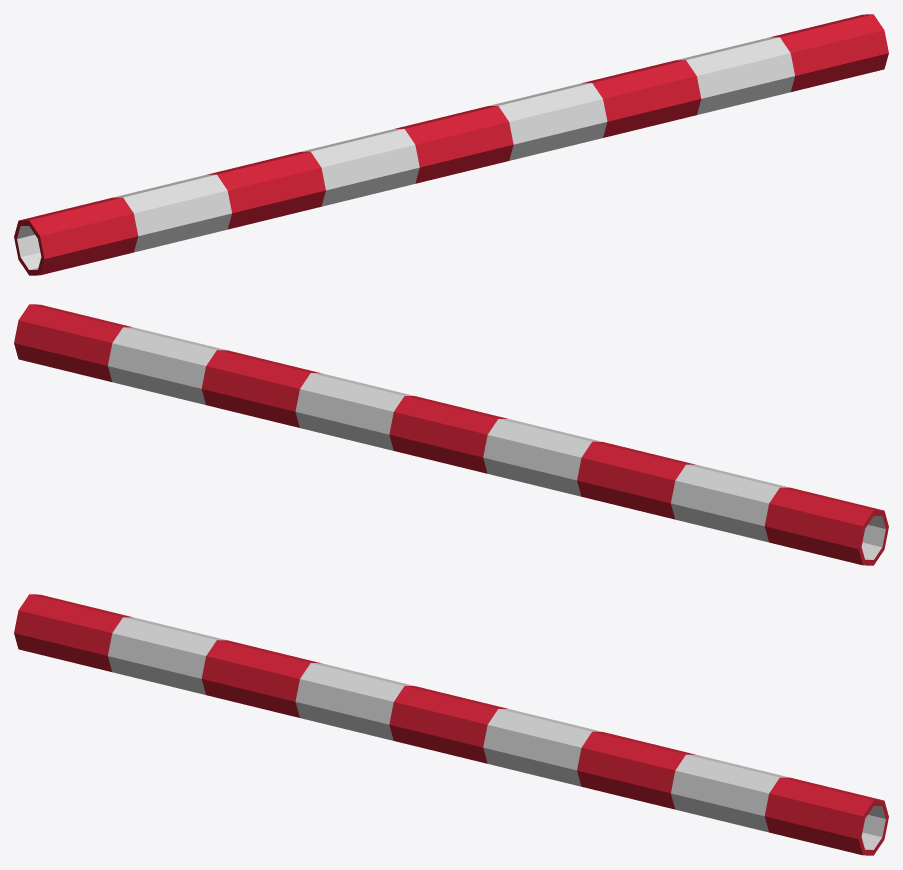
Rendered from Straw.fbx.
3 views of the same model, one above another, from view 1: azimuth 30°, elevation 25°; view 2: azimuth 150°, elevation 25°; view 3: azimuth 330°, elevation 25° (orthographic).
Parts seen in each view (by area): view 1: Straw; view 2: Straw; view 3: Straw.
Boxes of the visible parts, x1,y1,x2,y2 form: Straw: (14,14,888,275); Straw: (14,304,888,565); Straw: (14,594,888,855).
Size of the model in its own units: 160 by 10 by 10.
